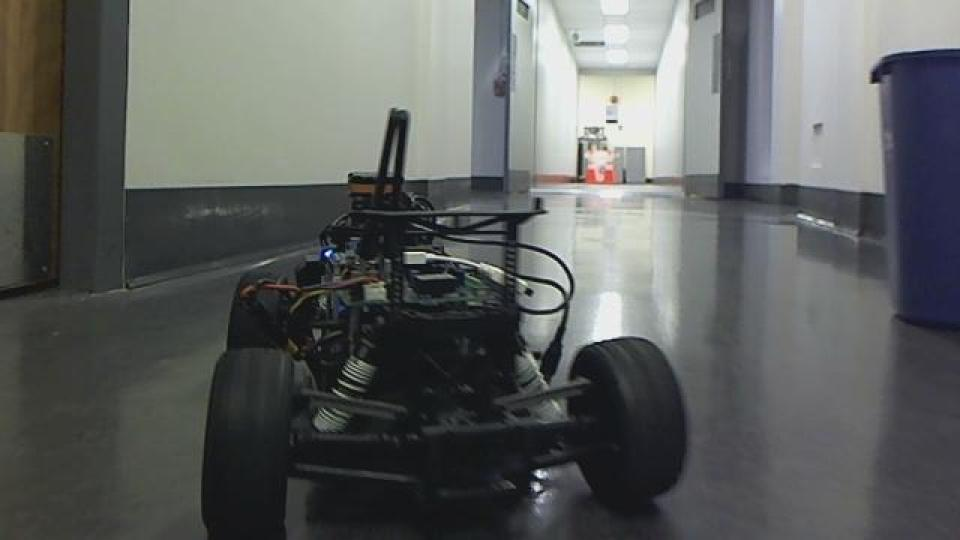car: (196, 105, 690, 535)
